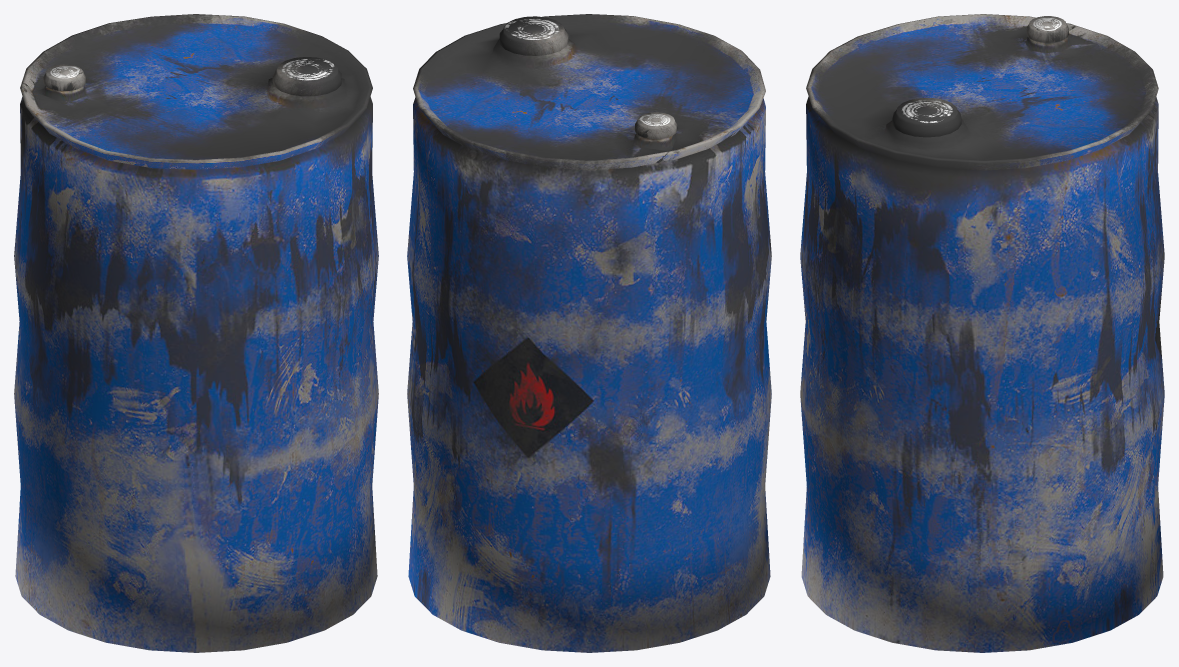
The model's file is youtong.fbx.
The picture shows the model from 3 angles, left to right: view 1: azimuth 30°, elevation 25°; view 2: azimuth 150°, elevation 25°; view 3: azimuth 270°, elevation 25°; orthographic projection.
Parts seen in each view (by area): view 1: youtong:Cylinder001; view 2: youtong:Cylinder001; view 3: youtong:Cylinder001.
Part boxes in pixels (x1,y1,x2,y2): youtong:Cylinder001: (14, 14, 378, 652); youtong:Cylinder001: (407, 14, 771, 652); youtong:Cylinder001: (800, 14, 1164, 652).
Bounding box in the file's own units: 0.8251 × 0.8252 × 1.26.
